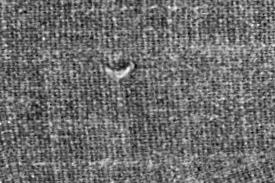snag: (102, 56, 142, 85)
